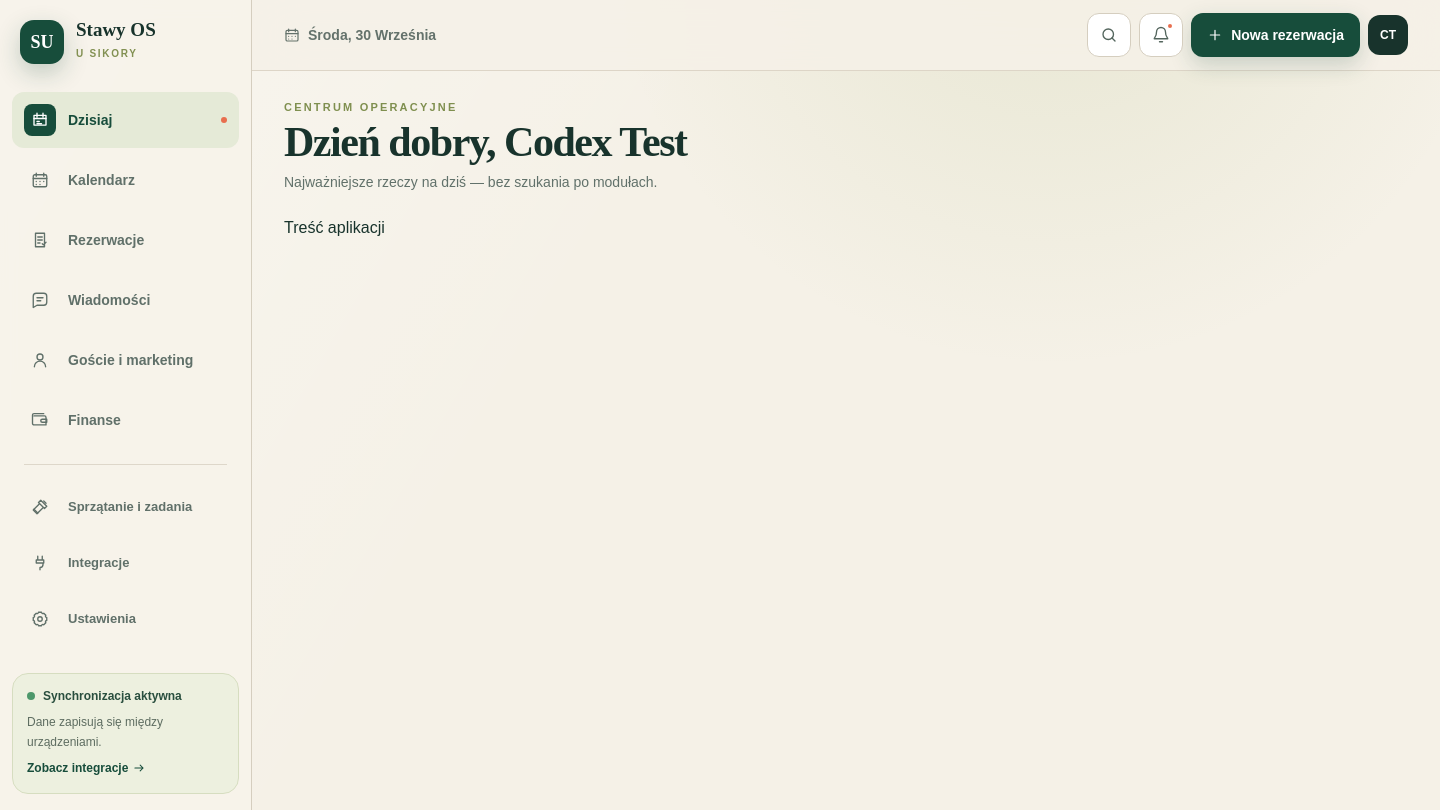
Test case: AppShell przed zakończeniem ładowania › pokazuje jawny wybór aktywnej organizacji dla wielu członkostw
Click the button with aria-label "Konto: Codex Test".
click(1388, 35)  # box [1368,15,1408,55]
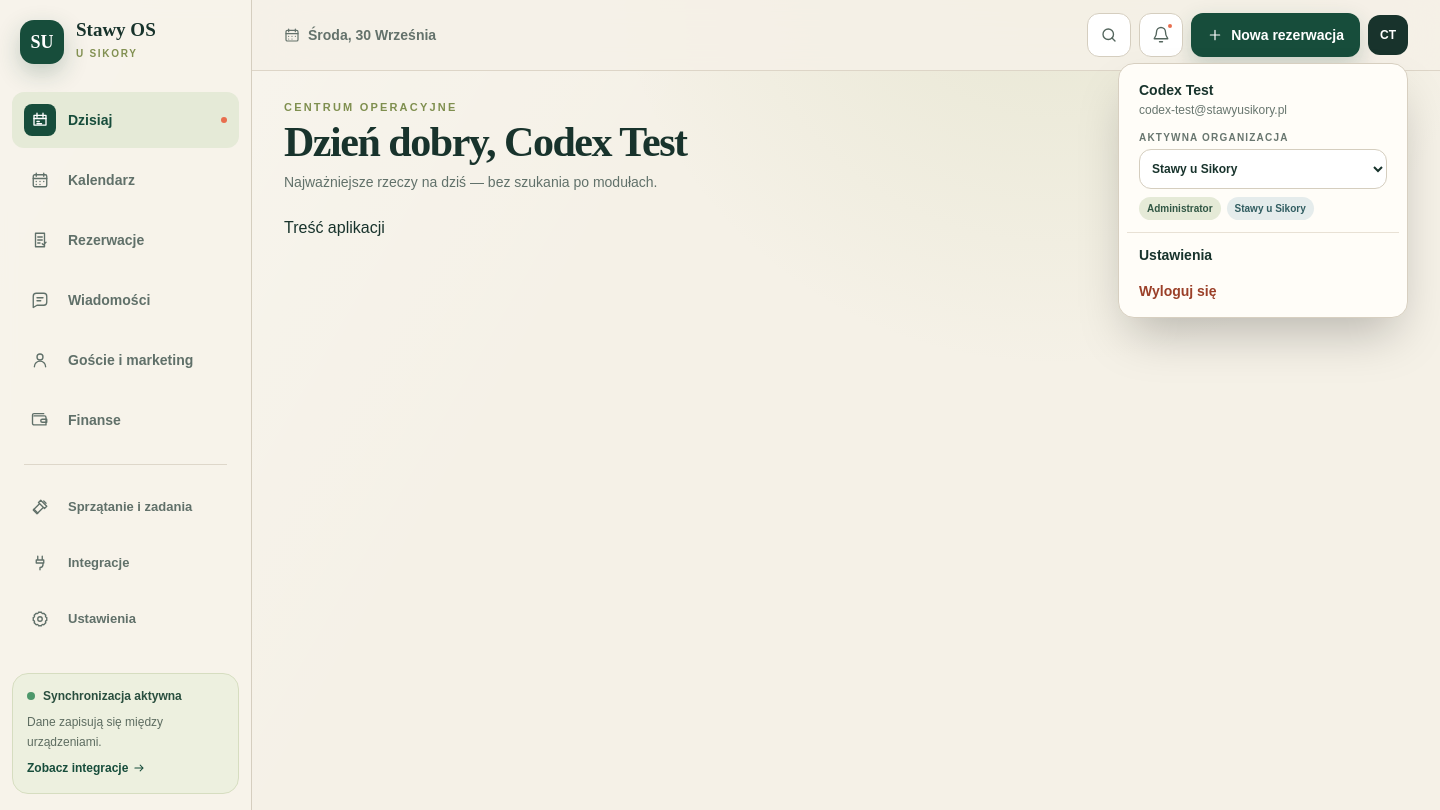
Expected: the dropdown labelled "Aktywna organizacja" shows "Stawy u Sikory", [1139,149,1387,189]
